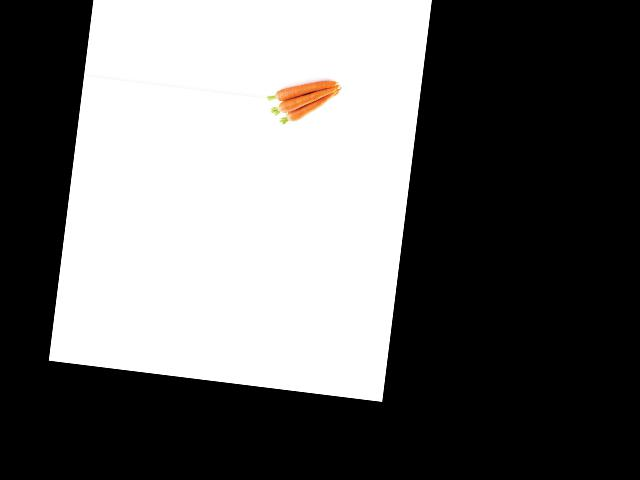carrot: (263, 61, 334, 107)
